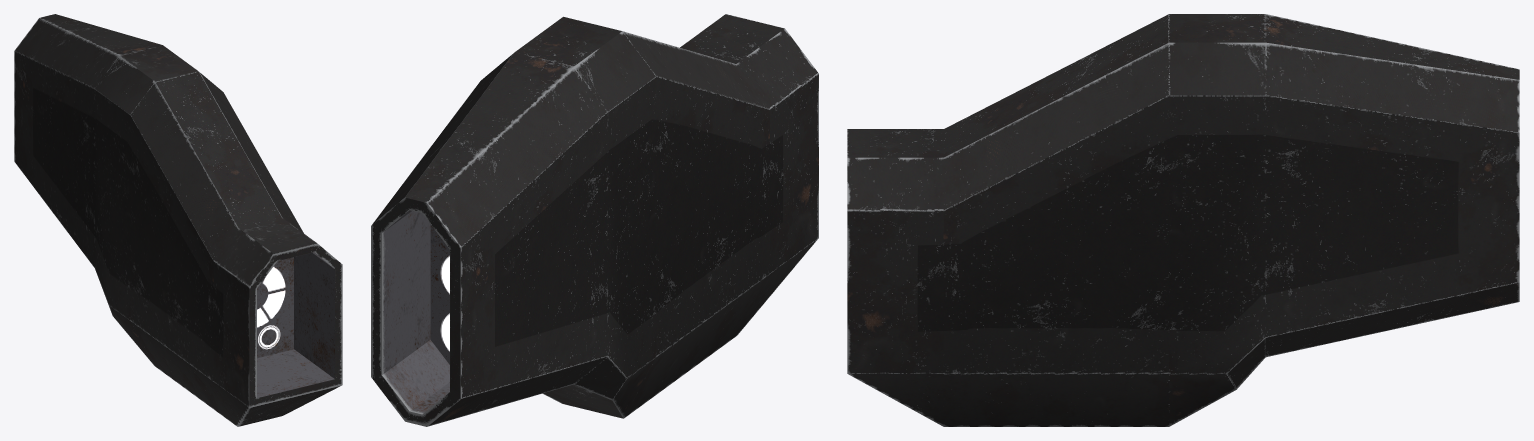
The model's file is thruster_l_2.fbx.
3 views of the same model, side by side, from view 1: azimuth 30°, elevation 25°; view 2: azimuth 150°, elevation 25°; view 3: azimuth 270°, elevation 25° (orthographic). The views are drawn at different scales.
Visible parts, largest first — view 1: thruster_l_2; view 2: thruster_l_2; view 3: thruster_l_2.
Boxes of the visible parts, x1=… form: thruster_l_2: x1=14, y1=14, x2=342, y2=426; thruster_l_2: x1=371, y1=14, x2=818, y2=426; thruster_l_2: x1=847, y1=14, x2=1519, y2=426.
Size of the model in its own units: 5.72 by 16.67 by 26.47.
